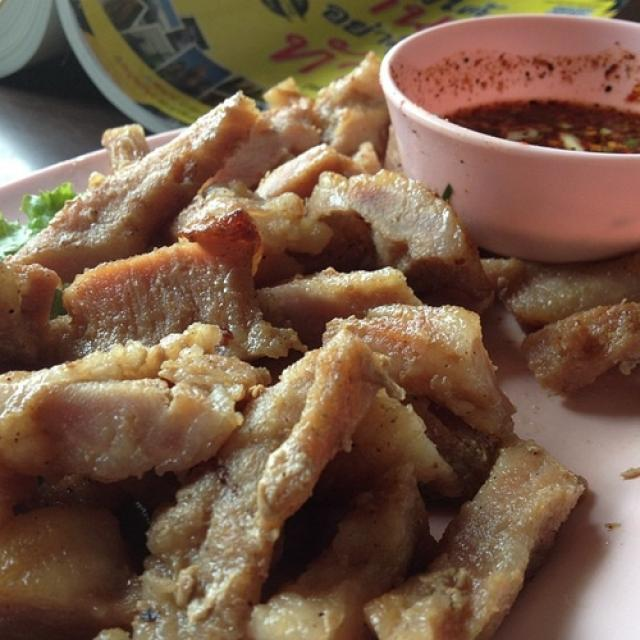猪肉菜式: (26, 52, 570, 626)
